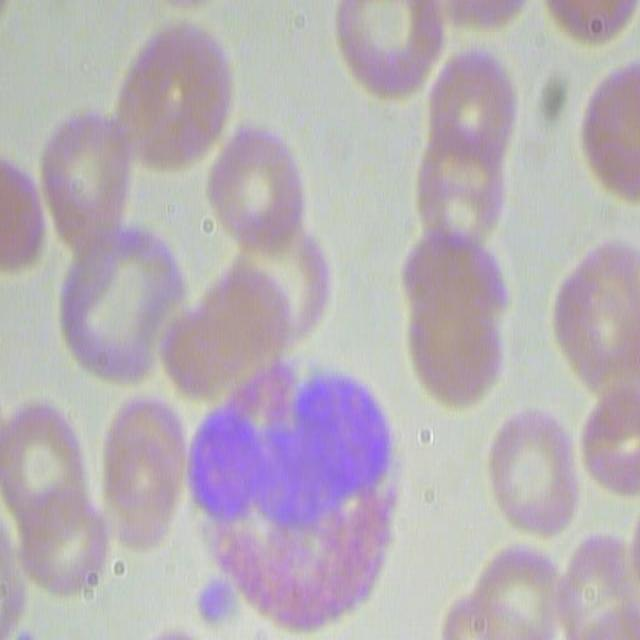RBC: (0, 396, 109, 602), (57, 220, 185, 391), (120, 14, 240, 182), (401, 228, 507, 409), (92, 394, 188, 555), (446, 531, 581, 639), (206, 124, 308, 258), (550, 239, 637, 393), (38, 113, 132, 249), (487, 405, 582, 537), (412, 133, 510, 250), (329, 0, 445, 97), (549, 523, 640, 637), (431, 30, 516, 148), (575, 63, 640, 201), (574, 385, 640, 500), (0, 141, 42, 282), (532, 0, 640, 43)
WBC: (191, 368, 391, 577)
platelets: (194, 570, 242, 634)
